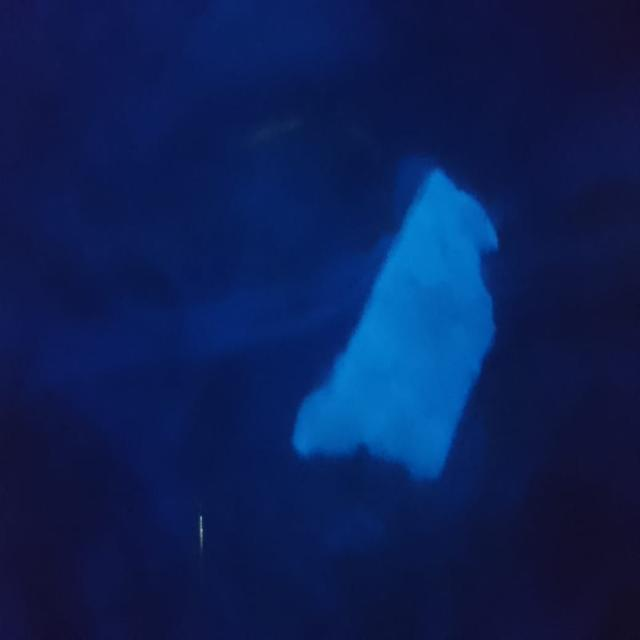litter: (272, 147, 512, 528)
